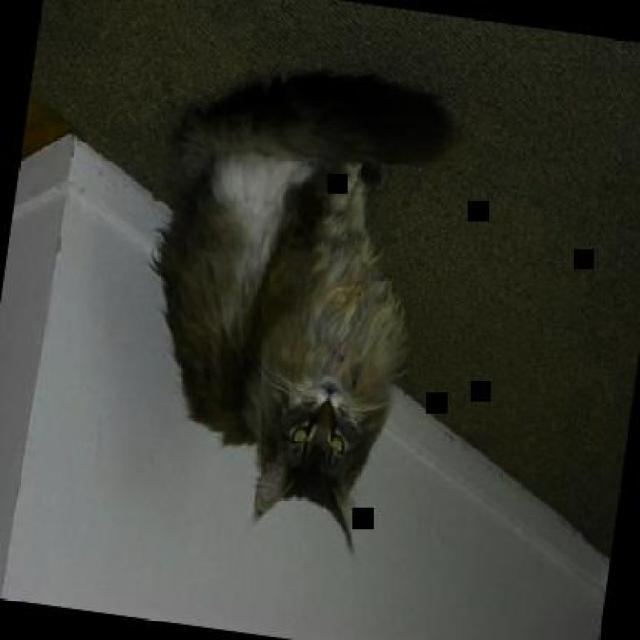cat: (118, 49, 459, 557)
